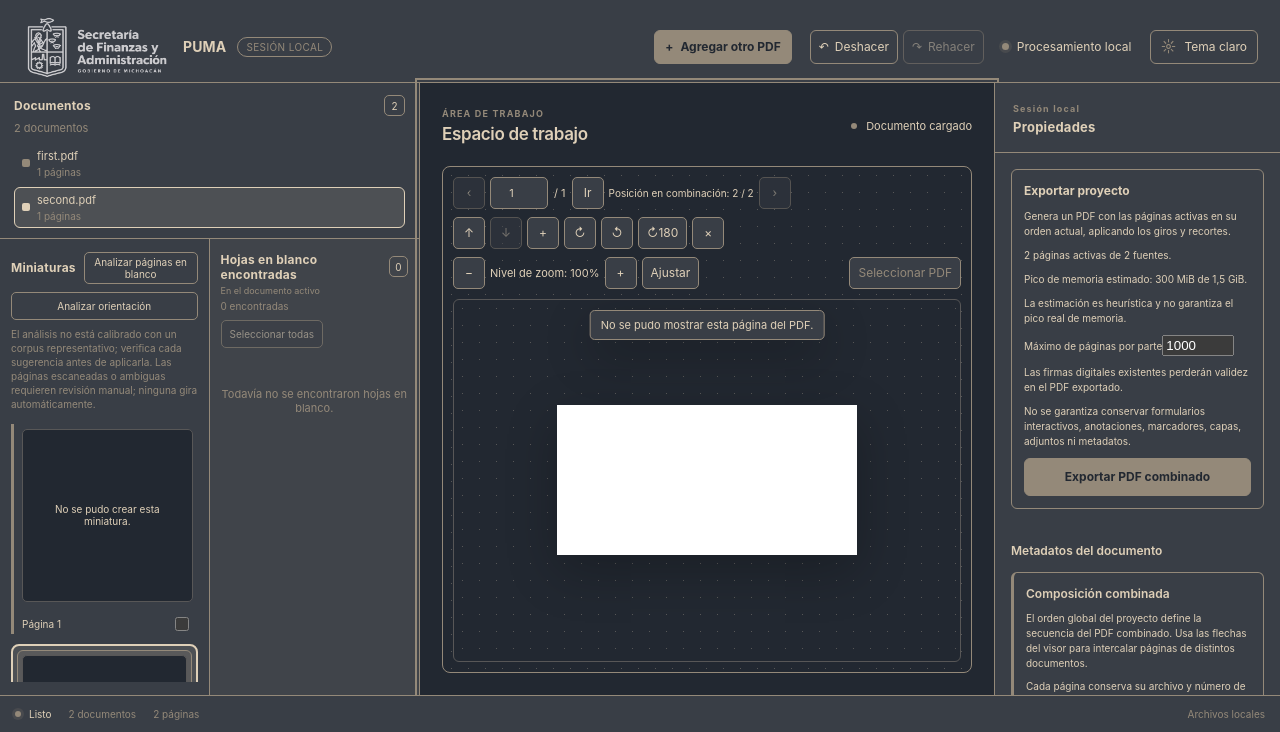
it: Document Studio initial workspace › adds multiple PDFs to one editable combined project
Earlier steps of the test are not shown.
Expected: the button "second.pdf 1 páginas" is shown, [14,187,405,228]
Expected: the button "+ Agregar otro PDF" is enabled, [654,30,792,64]
What coordinates should you click on to do the following:
click the button "first.pdf 1 páginas"
I would click on:
 (58, 156)
Its box is [14,143,405,184].
(page scrolled)
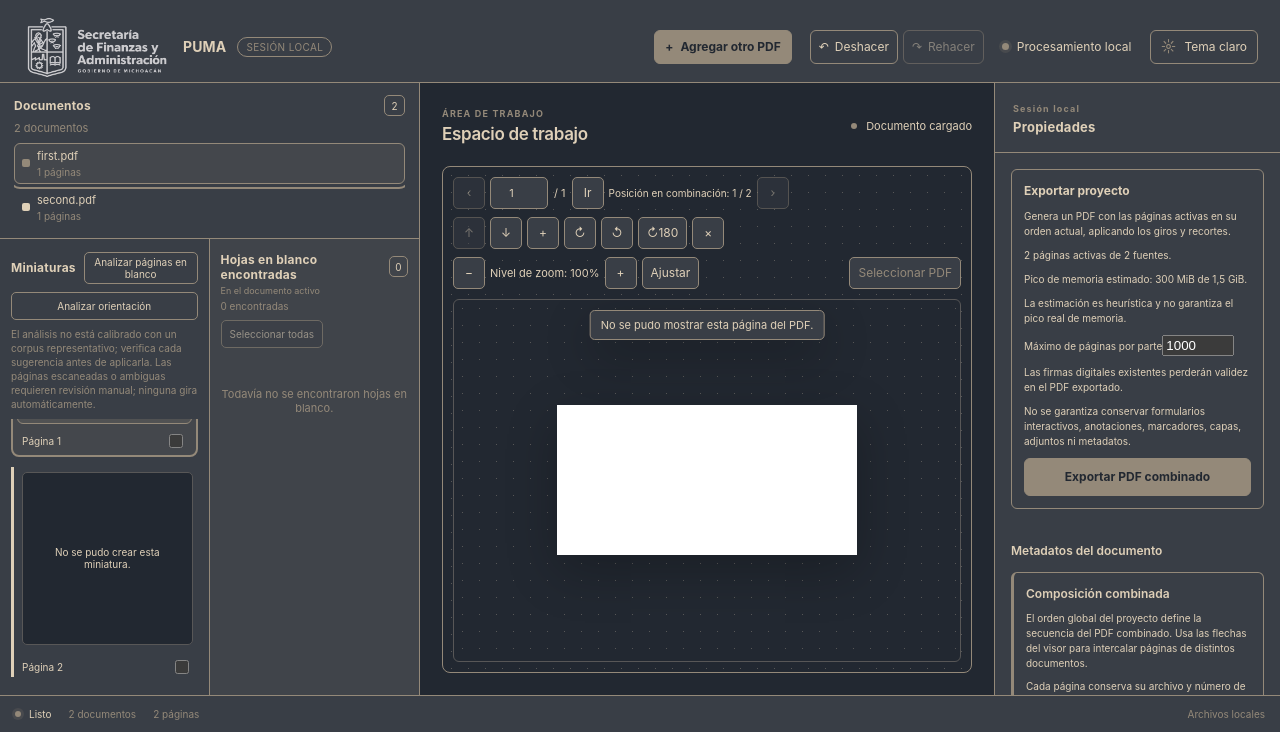
Expected: the element named "Seleccionar PDF" is enabled, [420,83,994,695]
Now the element with class "thumbnail-card" does not have class "is-source-selected", box [11,467,198,677]
